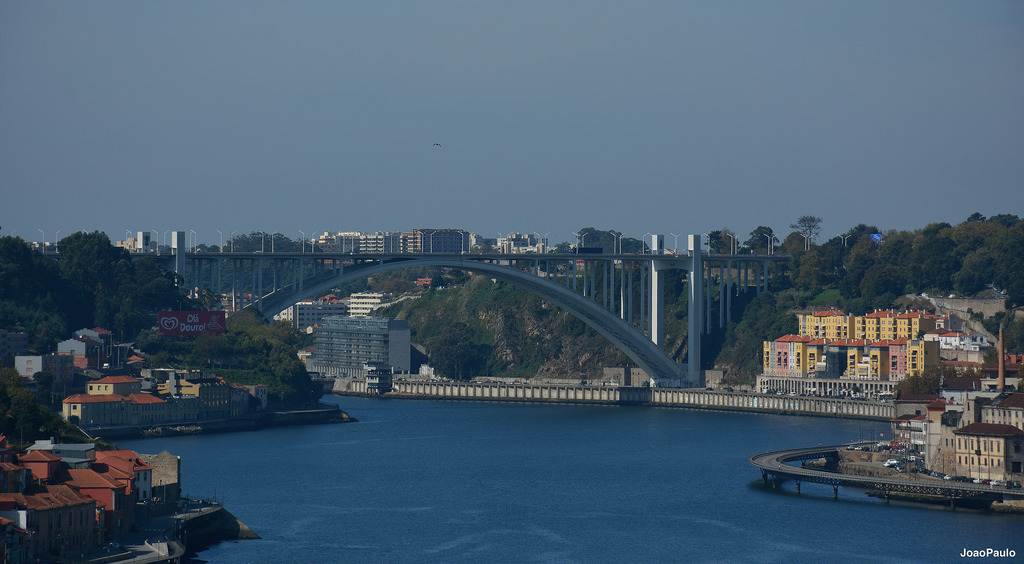arrabida: (117, 229, 797, 390)
